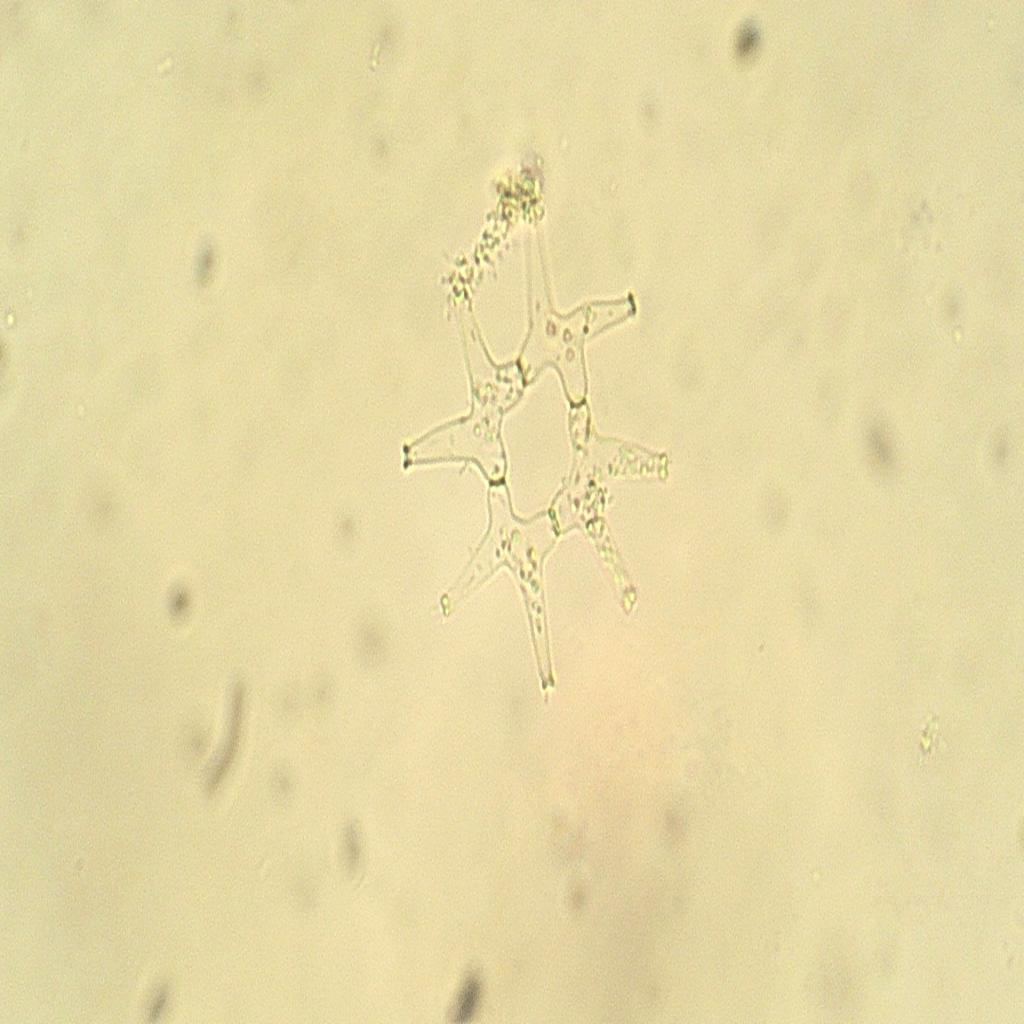Pediastrum_75TH: (390, 177, 678, 714)
